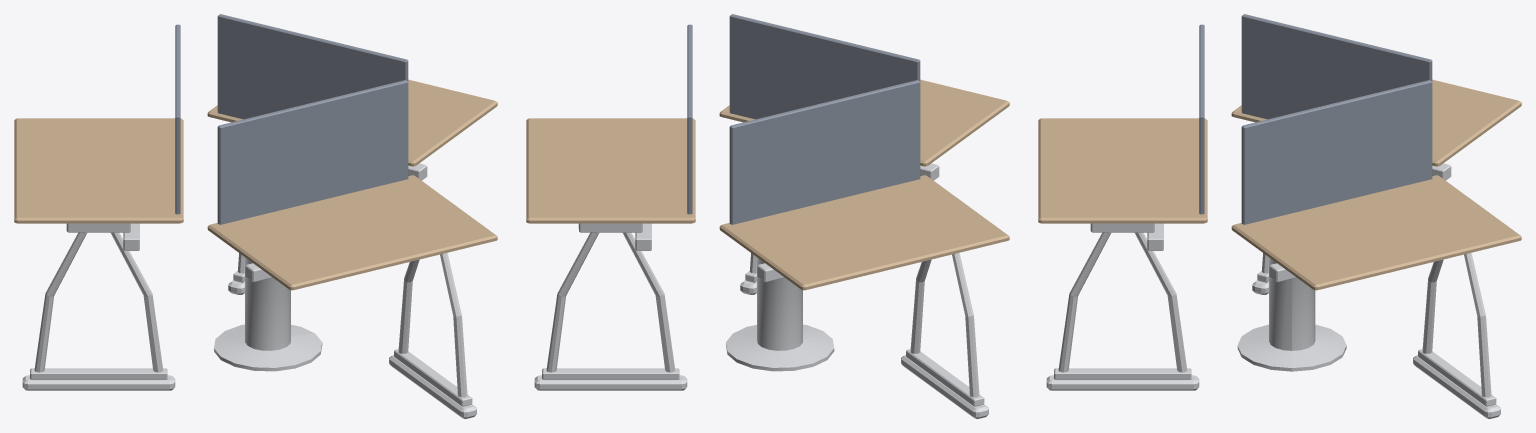
Rendered from downtown-office-interiors-workstation-120-degree-b5a3eb3a__16969.glb.
3 renders of one model, left to right at view 1: azimuth 30°, elevation 25°; view 2: azimuth 150°, elevation 25°; view 3: azimuth 270°, elevation 25°, orthographic.
Parts seen in each view (by area): view 1: workstation-120-degree; view 2: workstation-120-degree; view 3: workstation-120-degree.
Boxes of the visible parts, x1,y1,x2,y2 form: workstation-120-degree: (14,14,497,418); workstation-120-degree: (526,14,1009,418); workstation-120-degree: (1038,14,1521,418).
Bounding box in the file's own units: 2.04 × 1.13 × 1.77.
